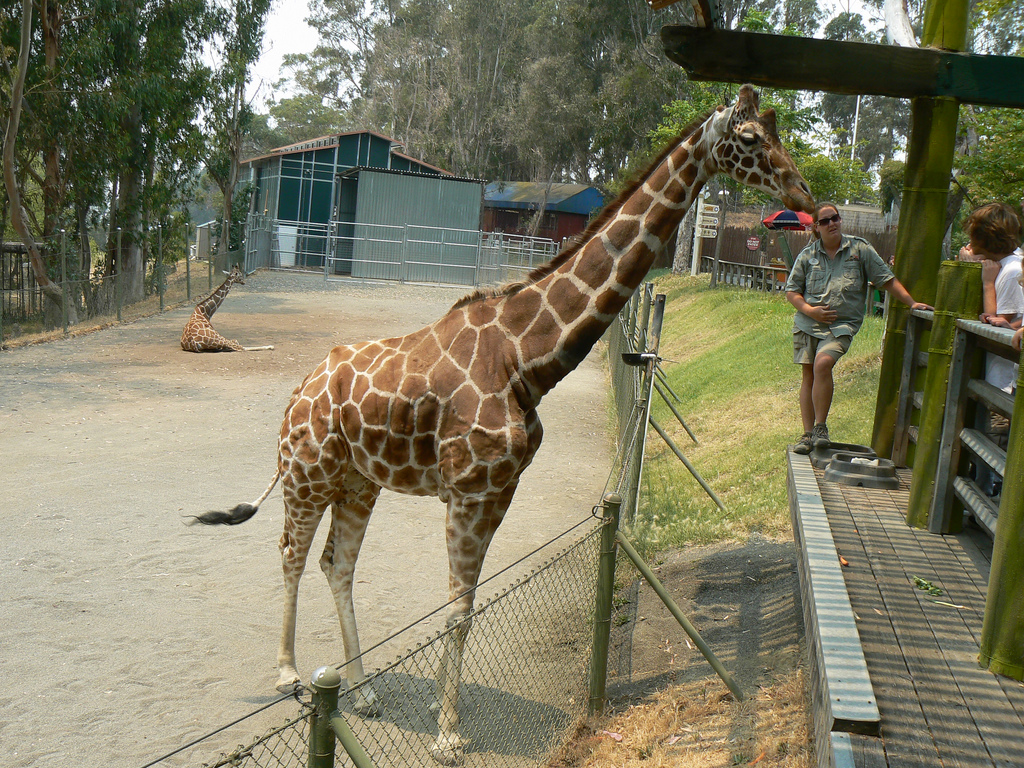giraffe: (240, 91, 819, 717), (173, 245, 270, 380)
